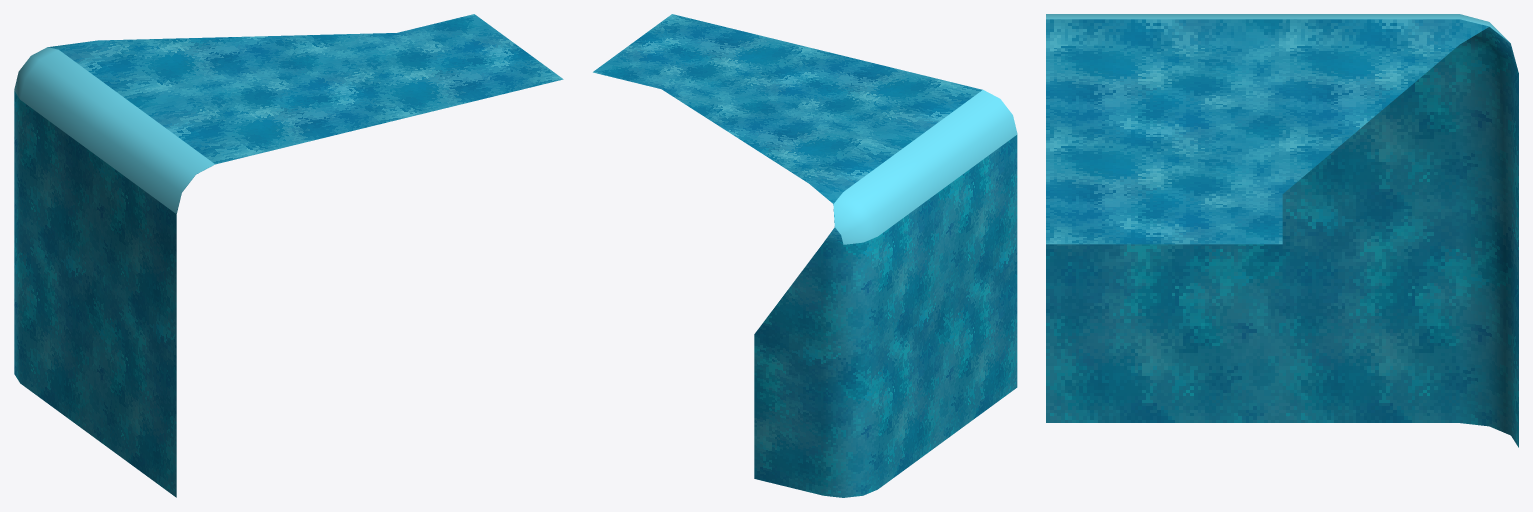
Rendered from Water_Waterfall_Top_Left_2x3.fbx.
3 renders of one model, left to right at view 1: azimuth 30°, elevation 25°; view 2: azimuth 150°, elevation 25°; view 3: azimuth 270°, elevation 25°, orthographic. The views are drawn at different scales.
Visible parts, largest first — view 1: Water_Waterfall_Top_Left_2x3, Water_Waterfall_Top_Left_2x3_River, Water_Waterfall_Top_Left_2x3_Crest; view 2: Water_Waterfall_Top_Left_2x3, Water_Waterfall_Top_Left_2x3_River, Water_Waterfall_Top_Left_2x3_Crest; view 3: Water_Waterfall_Top_Left_2x3, Water_Waterfall_Top_Left_2x3_River, Water_Waterfall_Top_Left_2x3_Crest.
Boxes of the visible parts, box(x1,y1,x2,y2) form: Water_Waterfall_Top_Left_2x3: box(14, 91, 195, 497); Water_Waterfall_Top_Left_2x3_River: box(48, 14, 563, 174); Water_Waterfall_Top_Left_2x3_Crest: box(14, 47, 214, 213); Water_Waterfall_Top_Left_2x3: box(754, 135, 1017, 497); Water_Waterfall_Top_Left_2x3_River: box(593, 14, 982, 226); Water_Waterfall_Top_Left_2x3_Crest: box(833, 90, 1017, 244); Water_Waterfall_Top_Left_2x3: box(1046, 27, 1518, 447); Water_Waterfall_Top_Left_2x3_River: box(1046, 19, 1509, 244); Water_Waterfall_Top_Left_2x3_Crest: box(1046, 14, 1510, 43).
Bounding box in the file's own units: 250 × 200 × 200.
